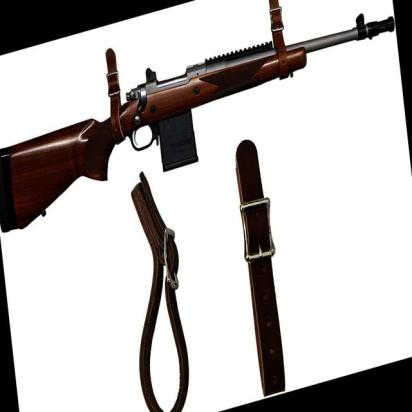Gun: (0, 0, 405, 229)
